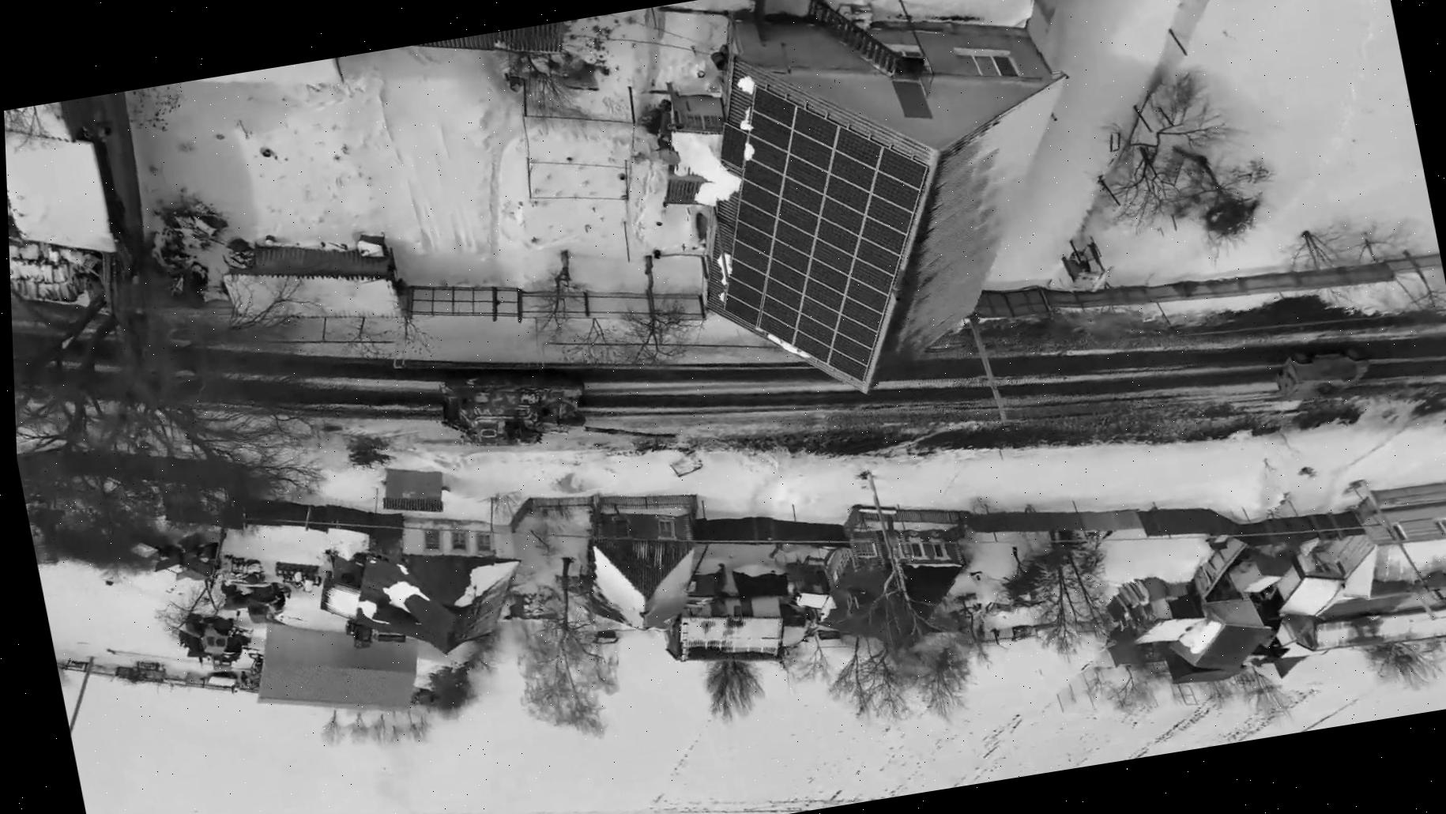armored_car: (1270, 331, 1382, 406)
car: (212, 569, 296, 629), (174, 627, 254, 681), (177, 603, 242, 656)
sau: (430, 336, 681, 477)
